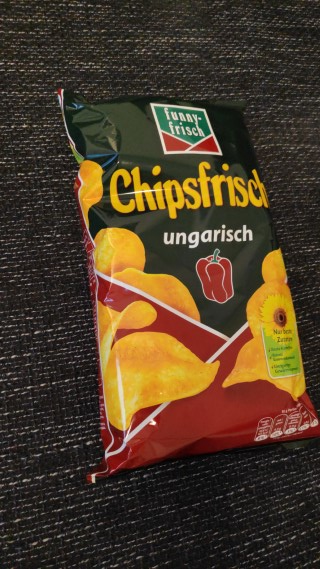chipsfrisch: (55, 84, 320, 486)
